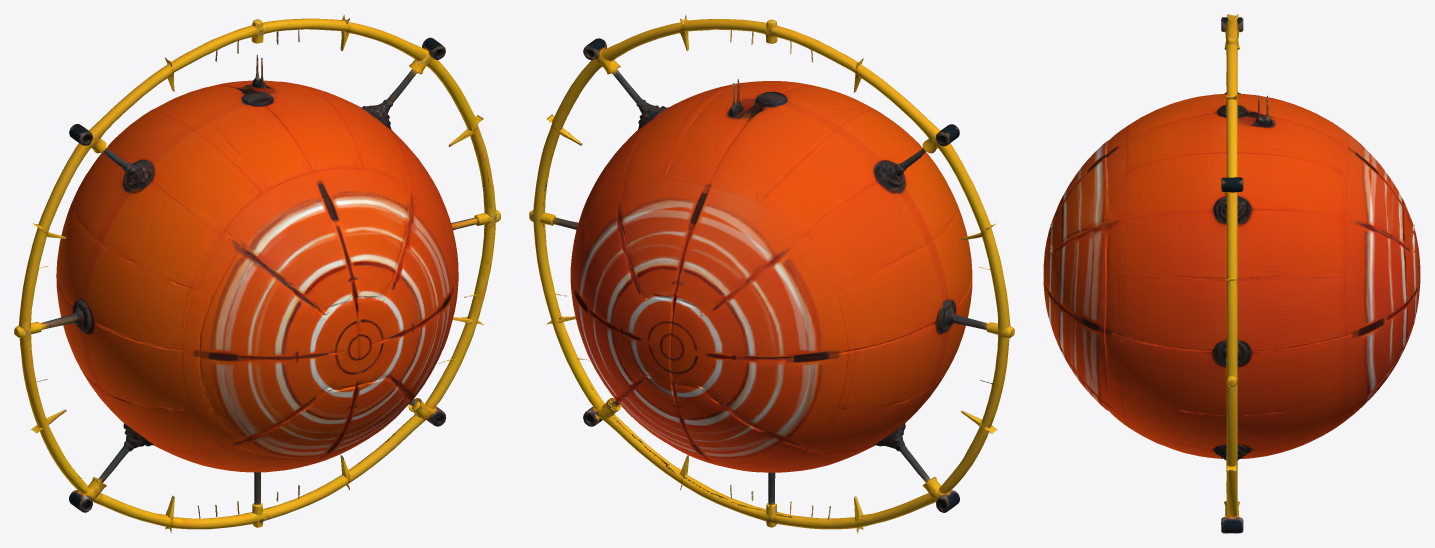
File: practice_target.glb
The picture shows the model from 3 angles, left to right: view 1: azimuth 30°, elevation 25°; view 2: azimuth 150°, elevation 25°; view 3: azimuth 270°, elevation 25°; orthographic projection. The views are drawn at different scales.
Parts seen in each view (by area): view 1: model; view 2: model; view 3: model.
Boxes of the visible parts, x1,y1,x2,y2 form: model: [14, 14, 500, 533]; model: [529, 14, 1014, 533]; model: [1043, 14, 1420, 533].
Size of the model in its own units: 1.9 by 1.9 by 1.38.
Materials: 1 (1 with a texture image).
